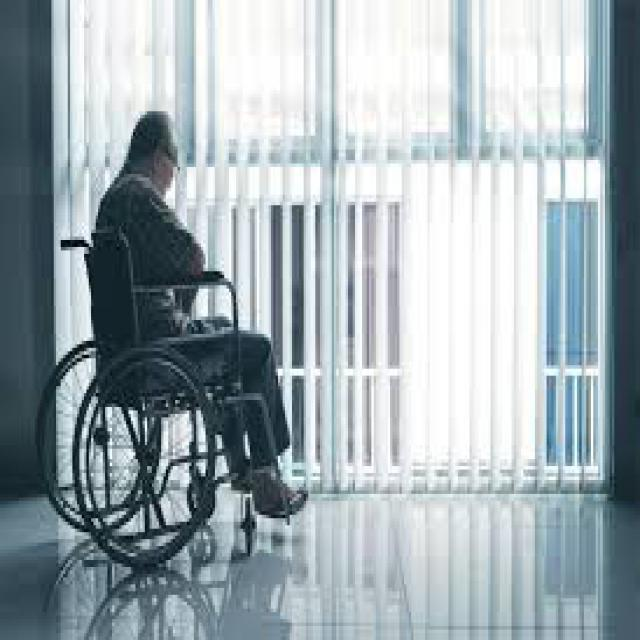peoplewithwheelchair: (33, 101, 308, 584)
